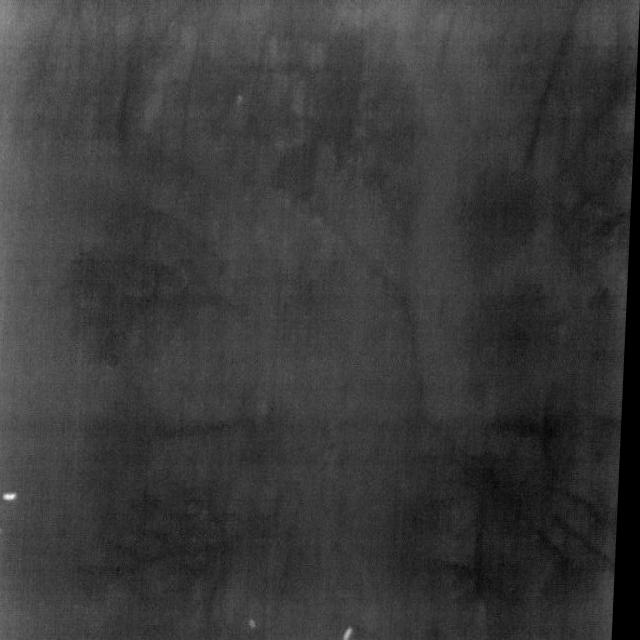deer: (6, 492, 22, 502), (349, 627, 360, 640), (0, 527, 6, 537)
